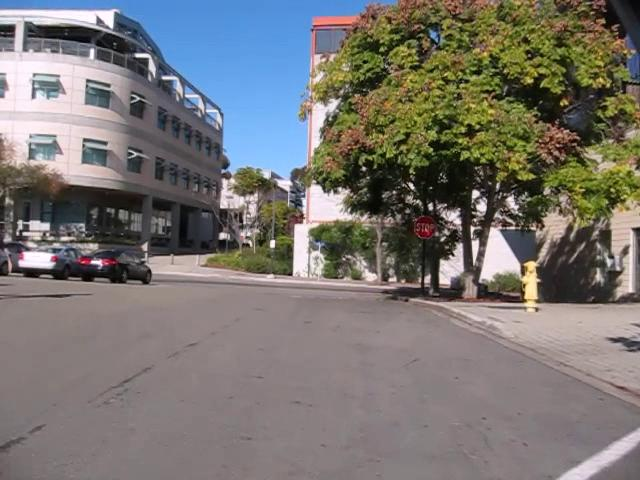stop: (413, 215, 437, 239)
